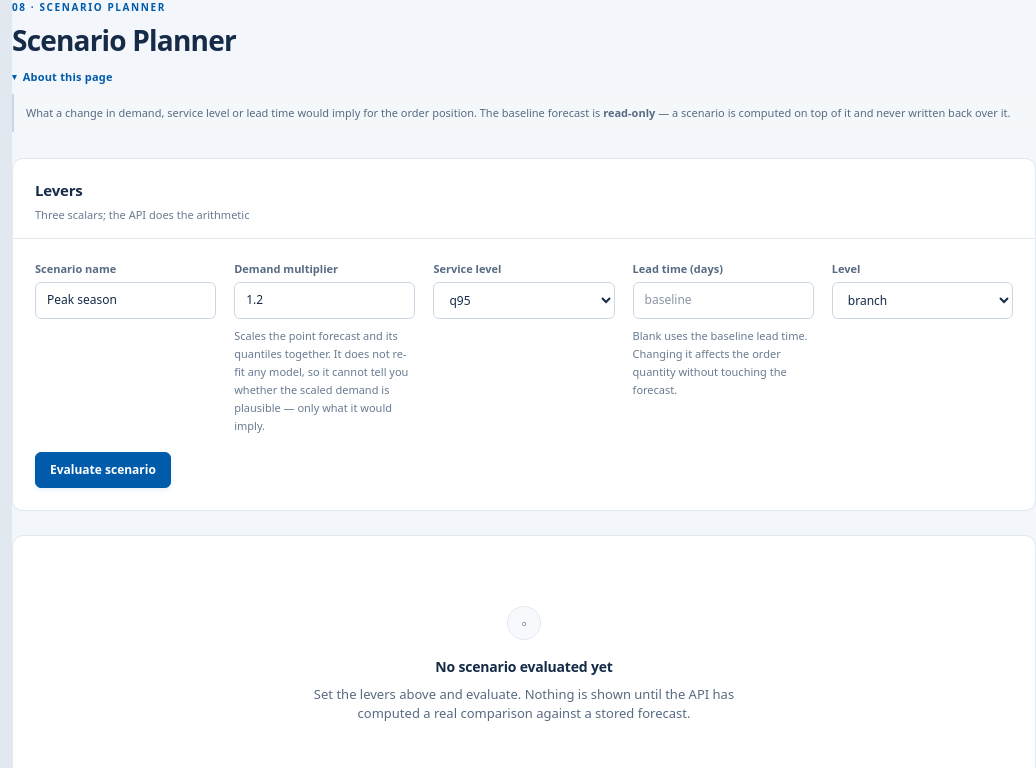
Test: ScenarioPlannerPage › renders the caveats the API returned
Click the button "Evaluate scenario".
click(103, 470)  # box [35, 452, 171, 488]
(page scrolled)
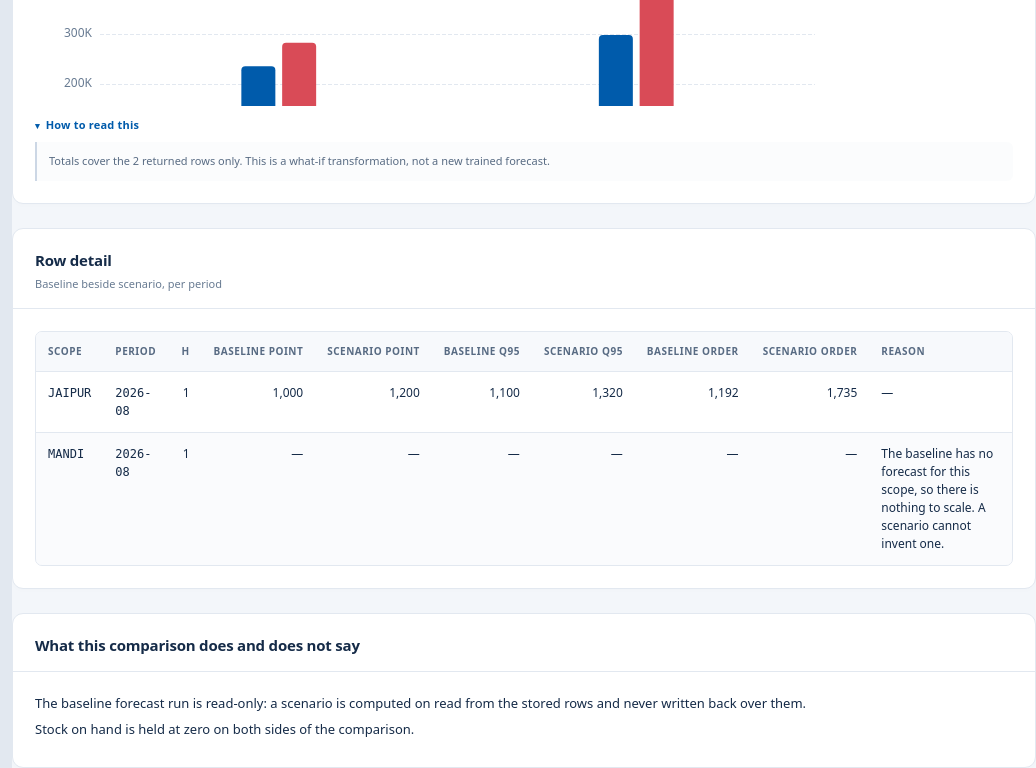
Expected: the list item "never written back over them" is shown, [35, 694, 806, 712]
Expected: the list item "zero on both sides" is shown, [35, 720, 414, 738]
